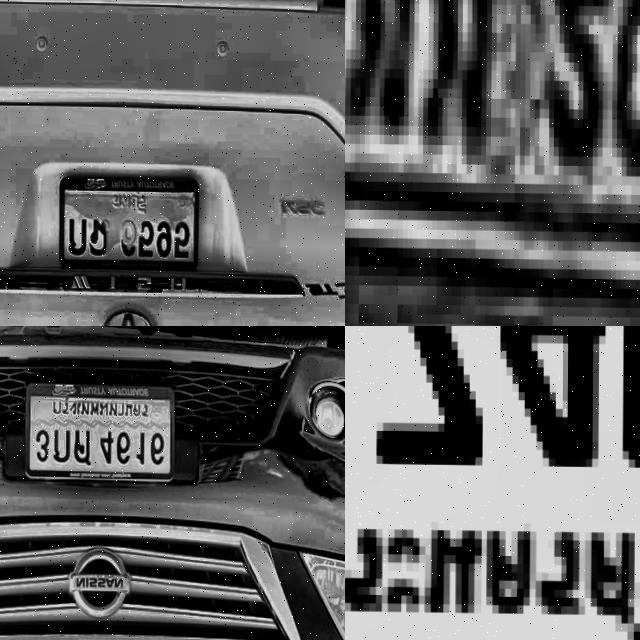license-plate: (345, 0, 640, 326), (345, 326, 640, 640), (23, 382, 177, 483), (57, 174, 201, 274)
